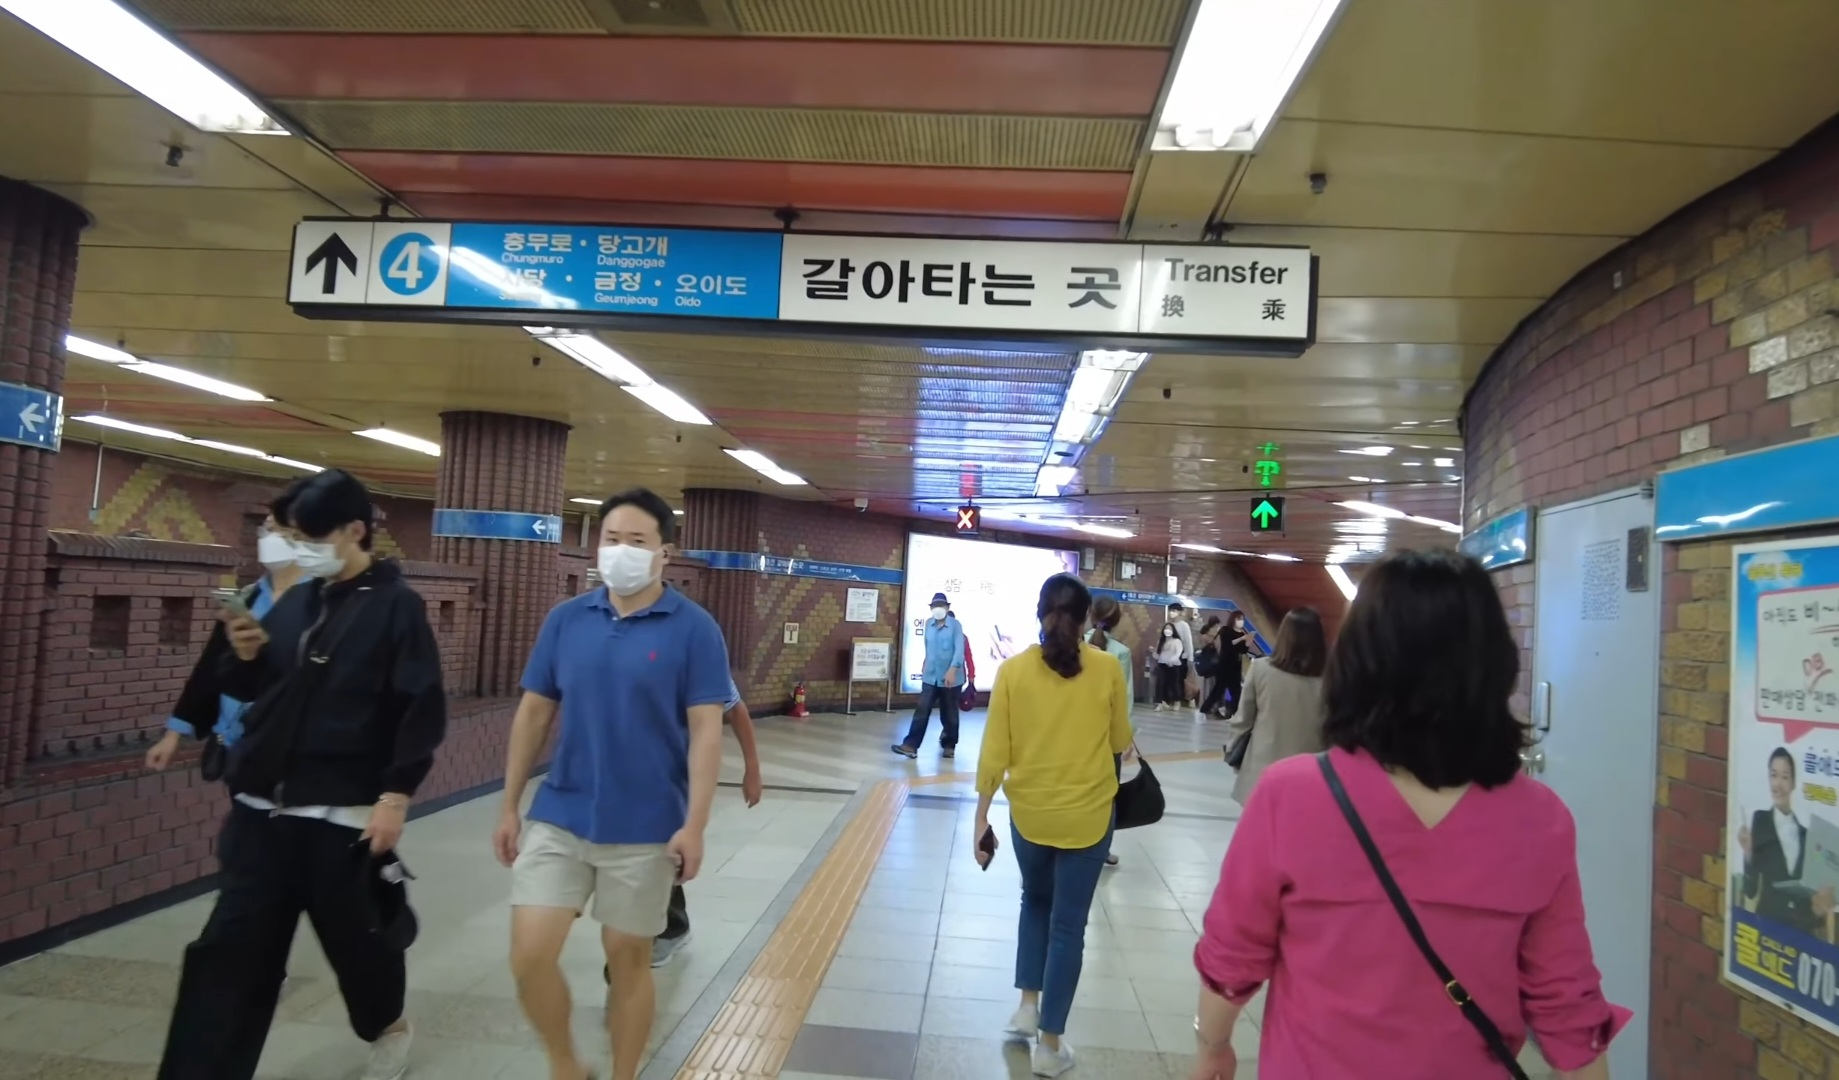signBoard: (263, 195, 1329, 360)
